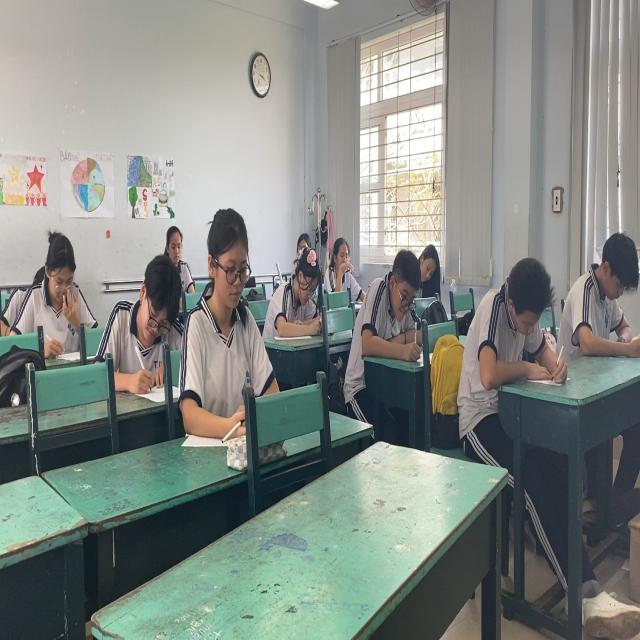not_cheating: (191, 210, 272, 411), (554, 224, 640, 348), (477, 263, 564, 383), (23, 224, 98, 353), (116, 259, 186, 379), (362, 255, 426, 348), (265, 249, 321, 331), (162, 224, 198, 296), (321, 238, 358, 293), (414, 245, 446, 289)
